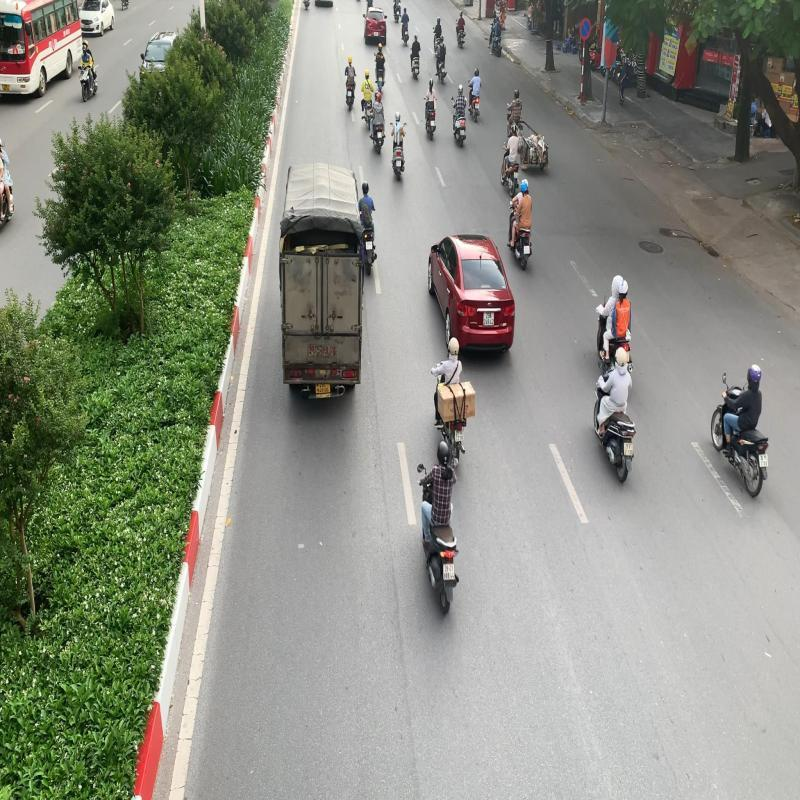helmet: (436, 438, 450, 465), (614, 345, 628, 367)
licenseplate: (442, 562, 456, 582), (624, 440, 634, 457)
motorcyclist: (416, 439, 462, 618), (591, 344, 637, 487)
